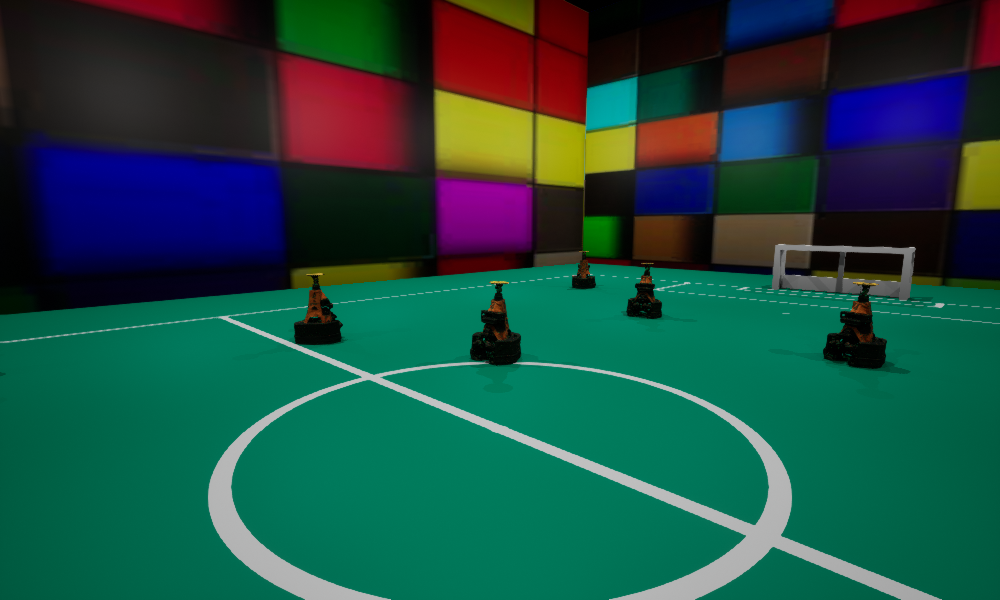o: (823, 282, 886, 367), (470, 281, 520, 364), (294, 273, 342, 344), (626, 263, 661, 317), (572, 251, 595, 288)
